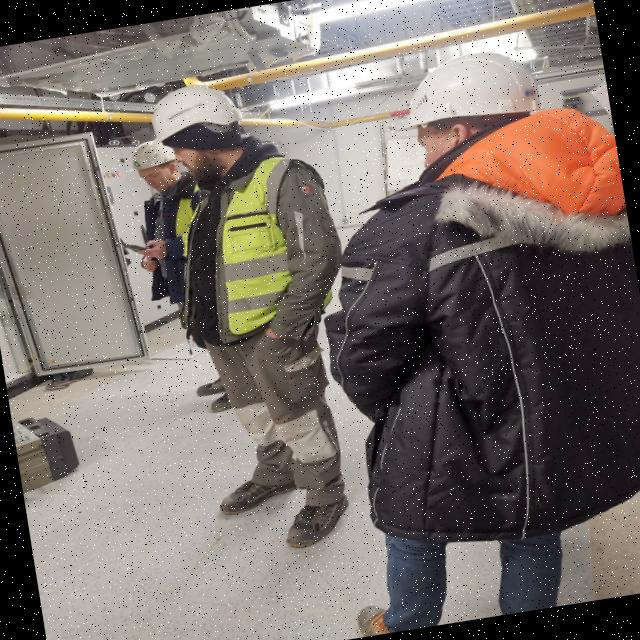Helmet: (383, 44, 543, 141), (143, 80, 247, 150), (128, 137, 178, 179)
Jacket: (165, 136, 314, 350)
NoJacket: (382, 113, 640, 511)
